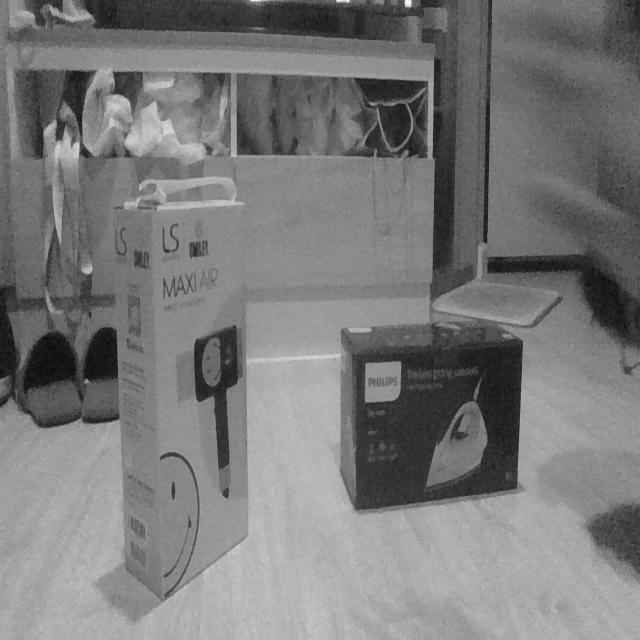Dryer: (111, 175, 251, 601)
IRON: (337, 316, 525, 516)
